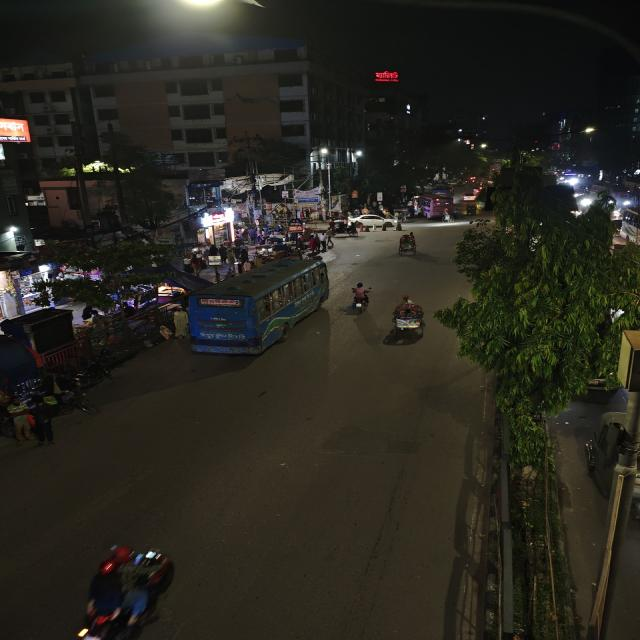bicycle: (305, 232, 332, 254)
bus: (184, 256, 333, 362), (413, 192, 455, 220)
car: (356, 213, 388, 232)
motorcycle: (386, 293, 428, 339), (345, 280, 375, 316)
pedestrian: (21, 393, 62, 447), (0, 396, 34, 446)
rickshaw: (387, 294, 429, 339), (393, 231, 423, 258), (329, 212, 360, 238)
